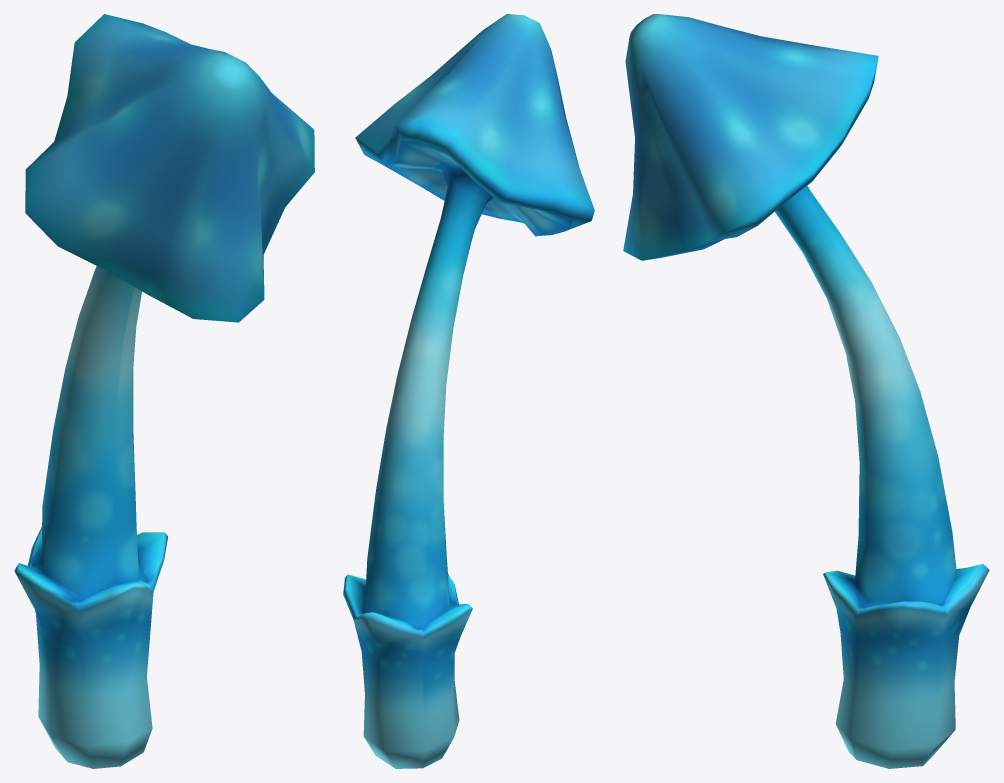
File: MushA.fbx
3 views of the same model, side by side, from view 1: azimuth 30°, elevation 25°; view 2: azimuth 150°, elevation 25°; view 3: azimuth 270°, elevation 25° (orthographic). The views are drawn at different scales.
Parts seen in each view (by area): view 1: mushA; view 2: mushA; view 3: mushA.
Boxes of the visible parts, x1=… form: mushA: x1=14, y1=14, x2=314, y2=768; mushA: x1=343, y1=14, x2=594, y2=768; mushA: x1=623, y1=14, x2=989, y2=768.
Size of the model in its own units: 6.86 by 18.16 by 8.08.
